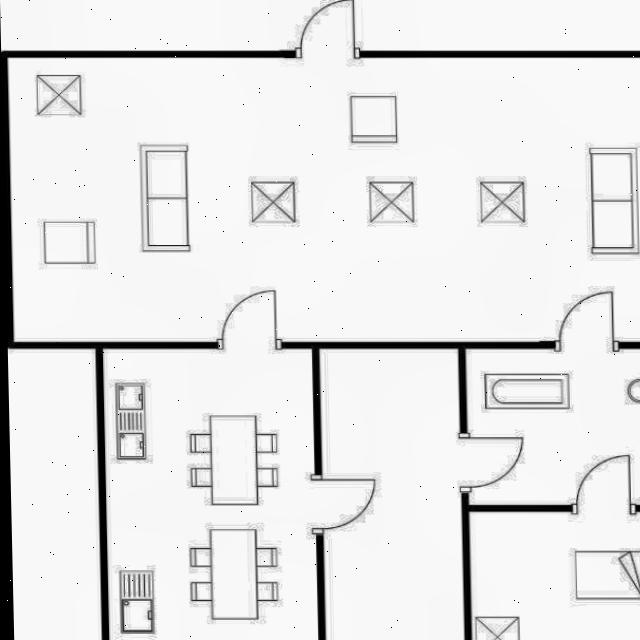room: (7, 59, 640, 341), (103, 346, 317, 640), (465, 349, 640, 504), (470, 512, 640, 640)
